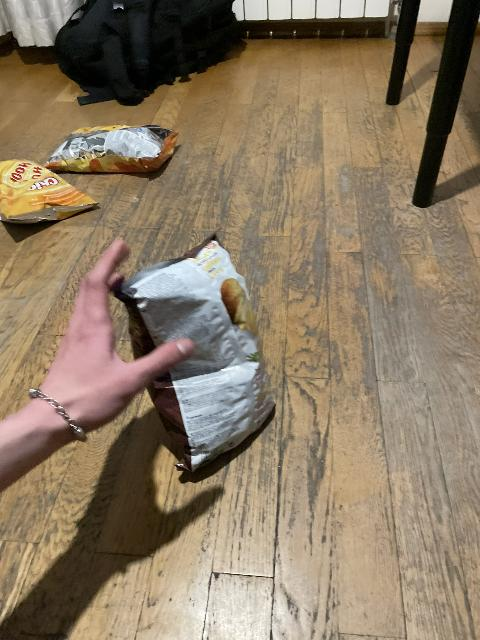Chio Cascaval 125g: (44, 124, 180, 174)
Chio Hula Hoops Cheese 70g: (0, 159, 100, 222)
Lays Beef Grilled Ribs 125g: (117, 241, 274, 468)
